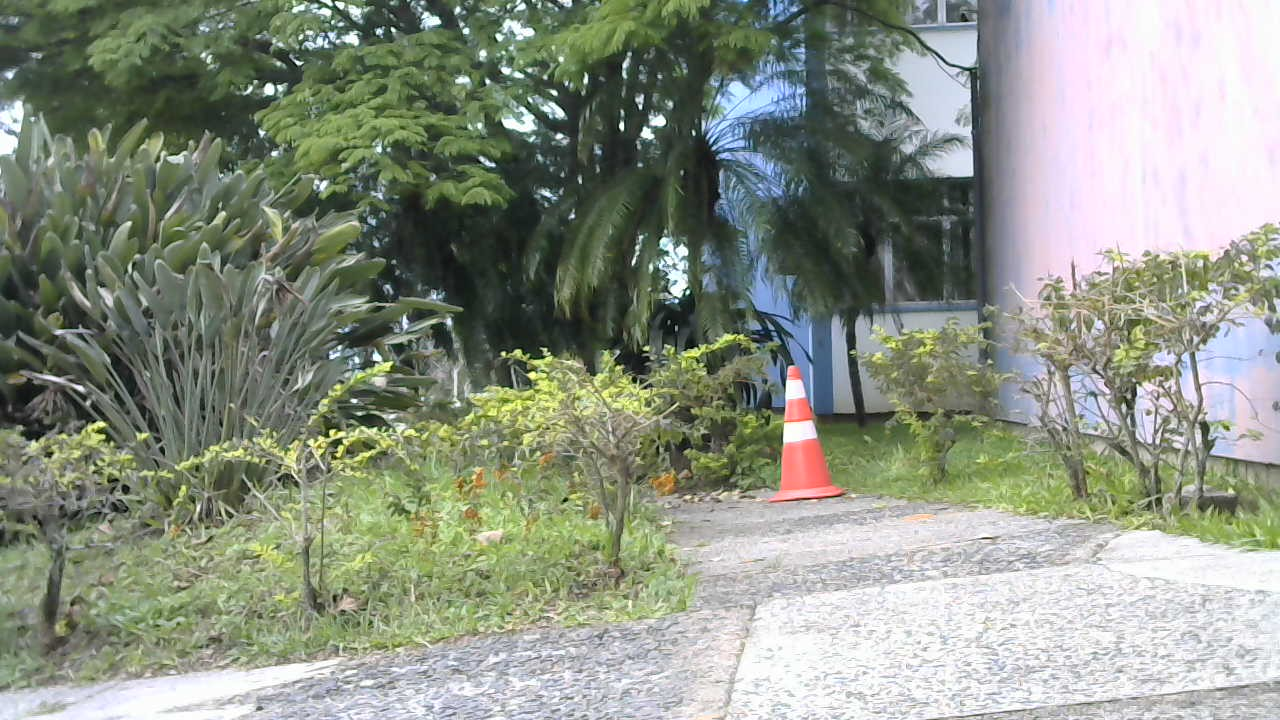cone: (770, 367, 843, 500)
